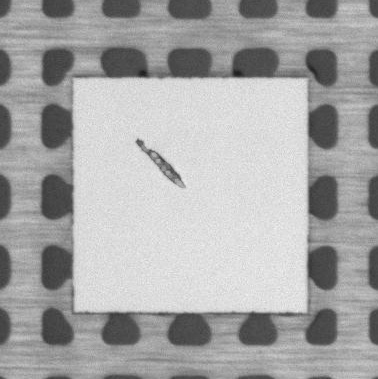DIE_INK: (134, 135, 190, 192)
